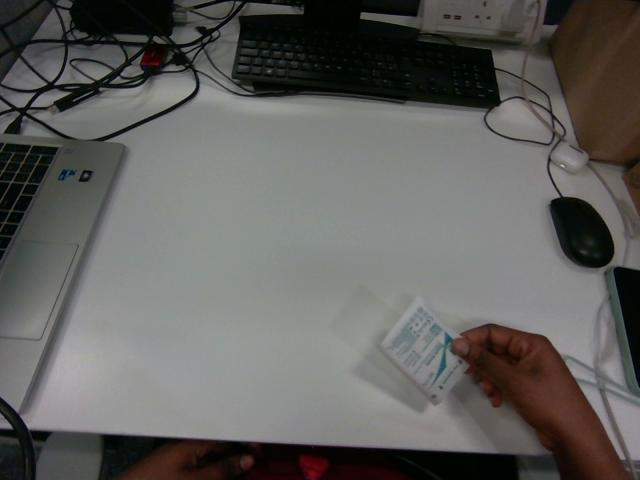gauze: (380, 297, 467, 404)
